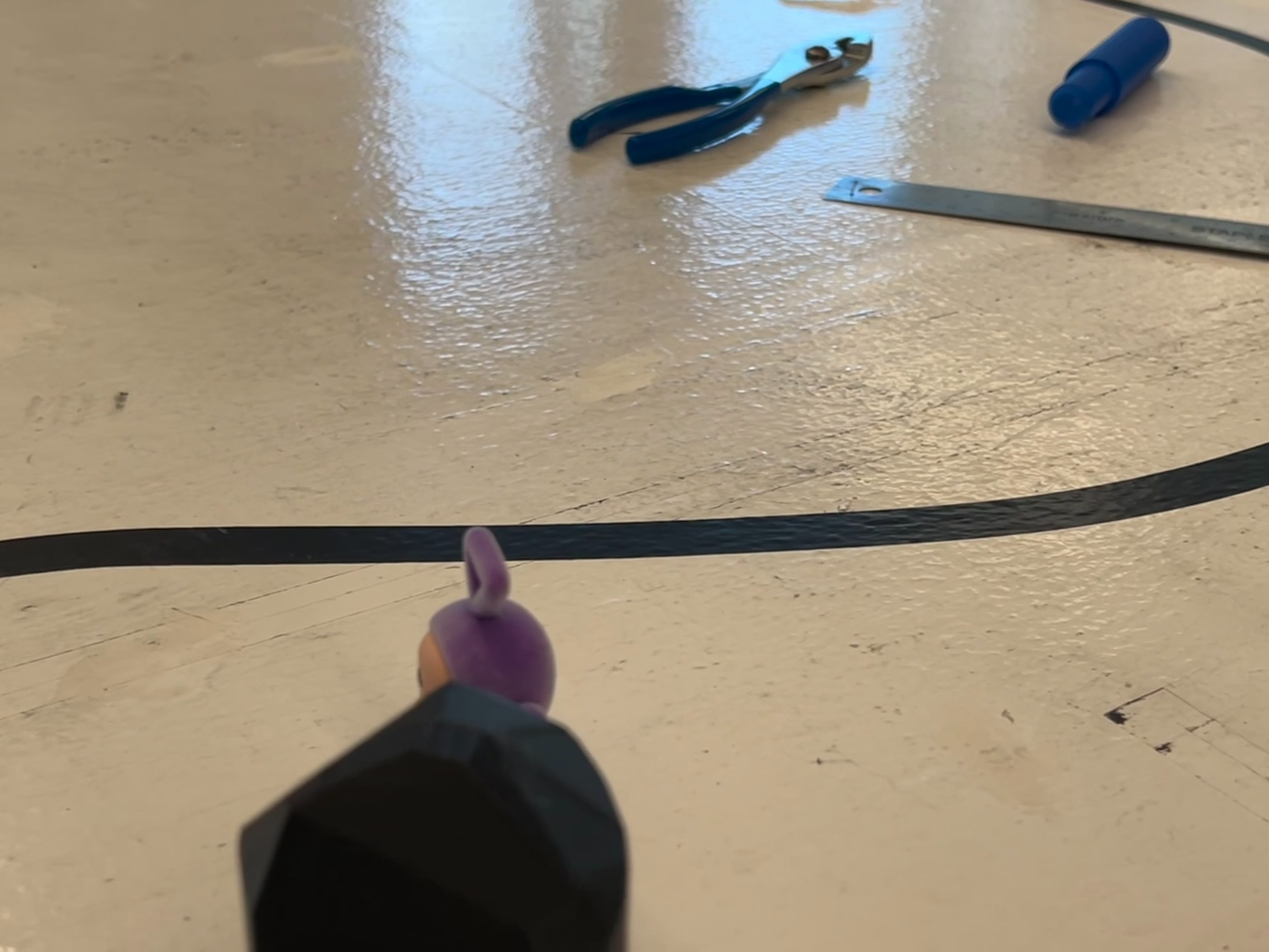teletubby: (416, 528, 556, 716)
